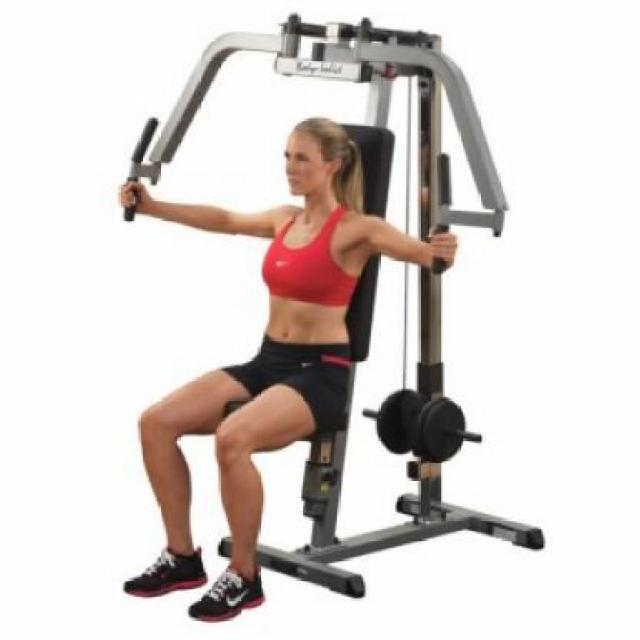chest fly machine: (90, 7, 549, 640)
